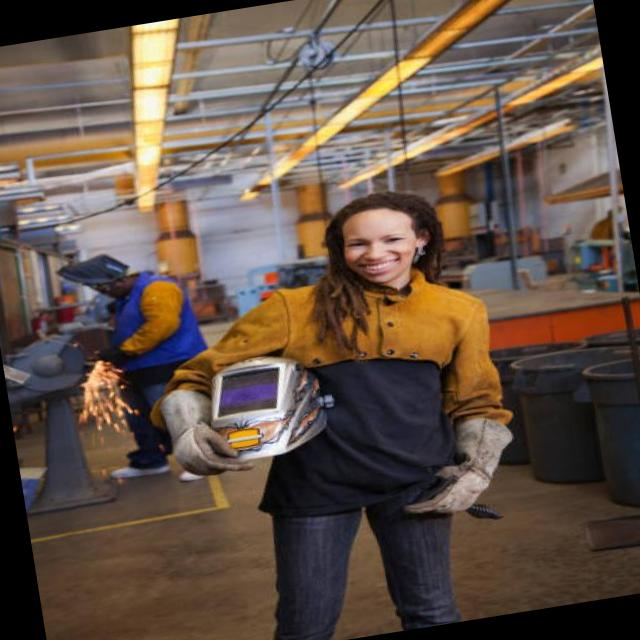Gloves: (386, 408, 526, 525), (149, 382, 253, 492)
